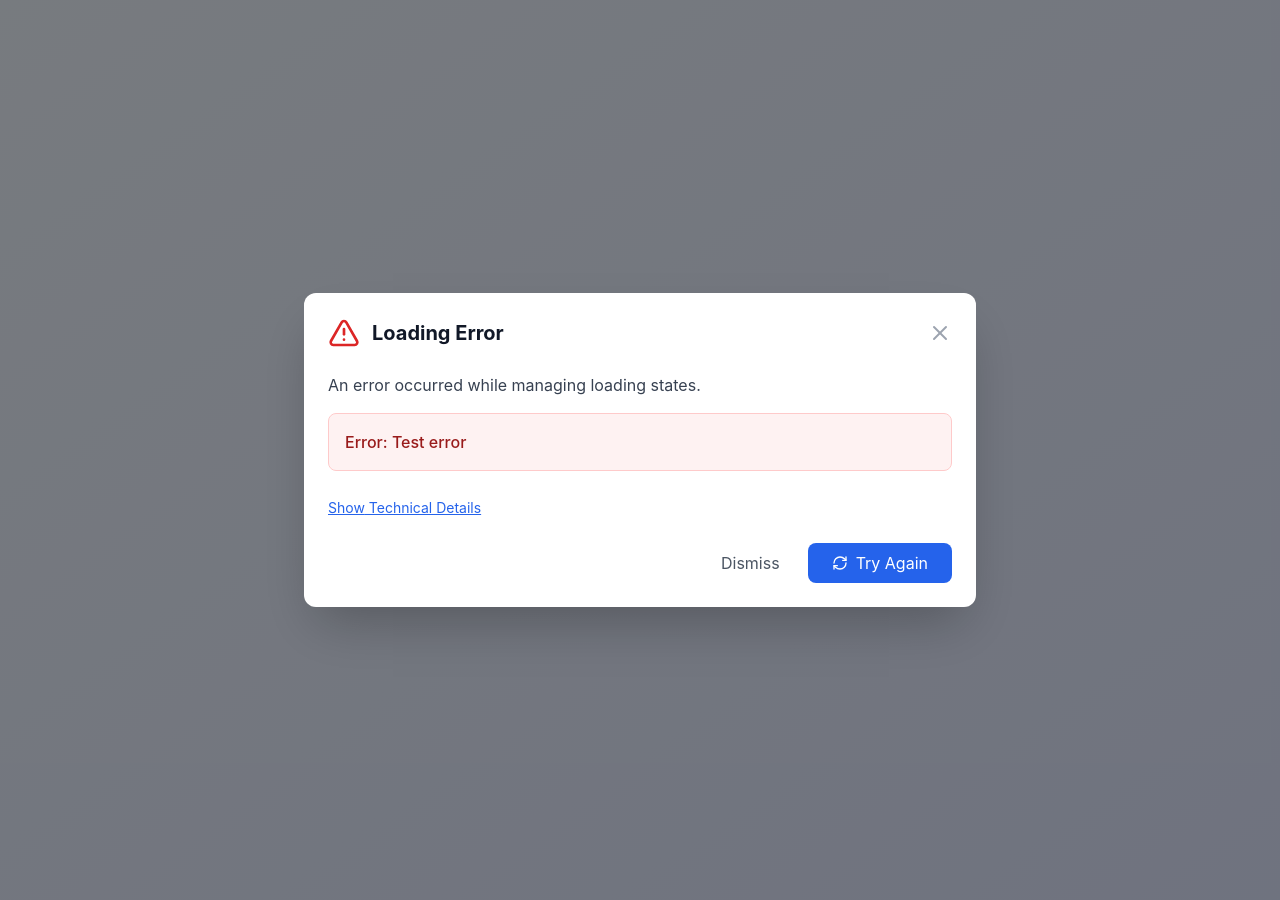
Scenario: LoadingErrorBoundary › Technical Details › should toggle technical details when clicked
The width and height of the screenshot is (1280, 900).
Click the button "Show Technical Details" at (405, 508), box [328,498,481,518]
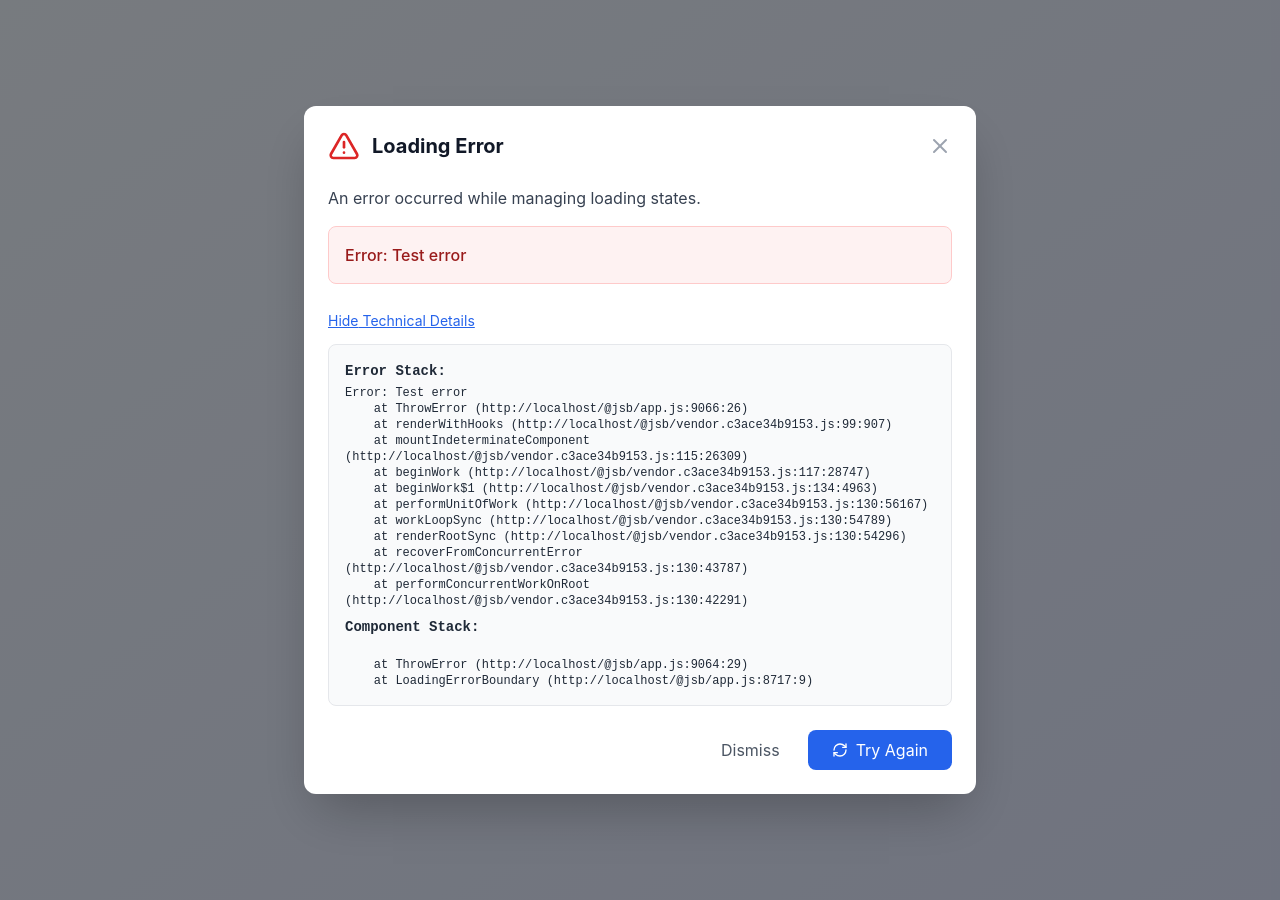
Expected: the button "Hide Technical Details" is shown, [328,311,475,331]
Expected: the text "Error Stack:" is shown, [345,363,446,379]
